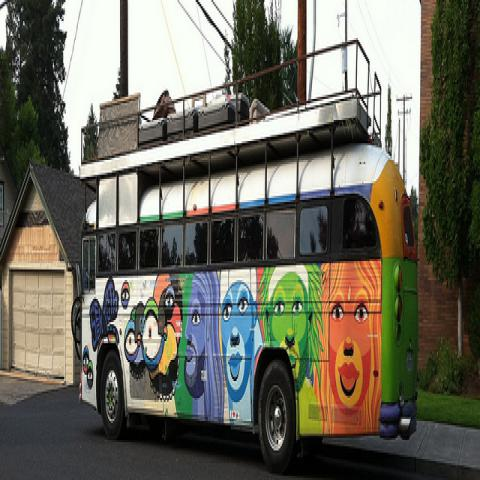bus: (73, 44, 418, 477)
